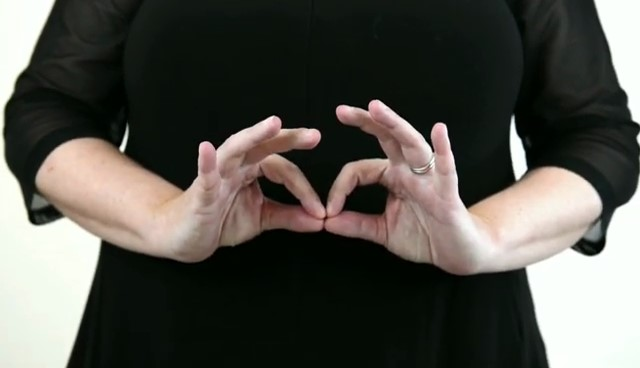B: (179, 95, 481, 286)
